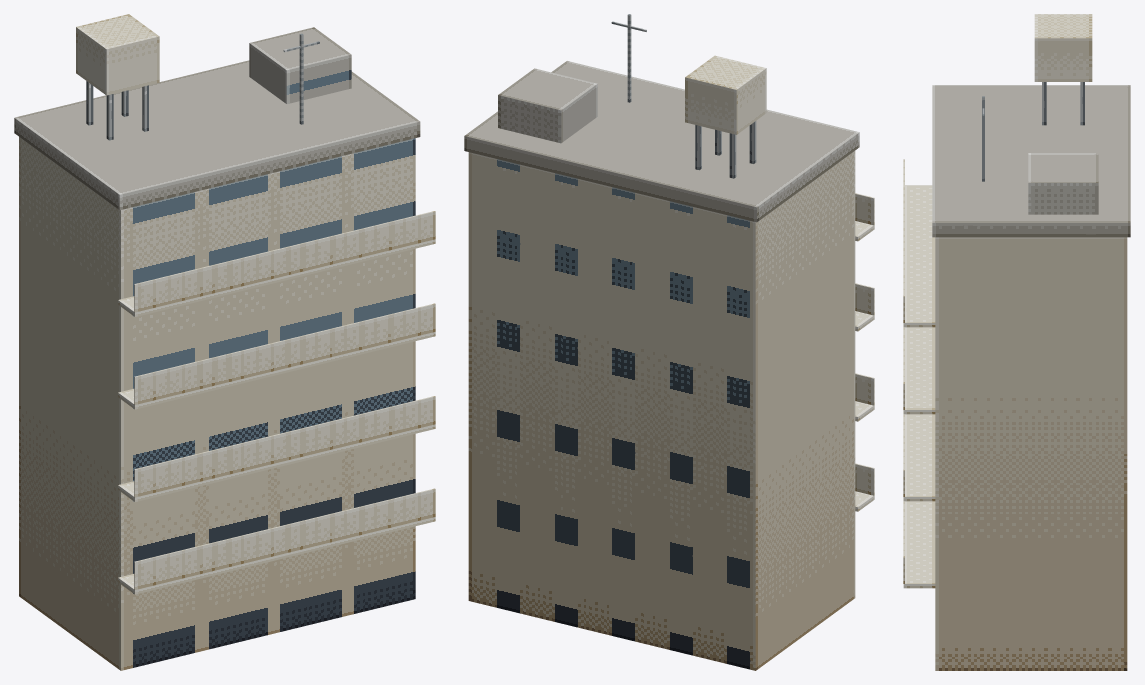
The model's file is sky_mansion.glb.
The picture shows the model from 3 angles, left to right: view 1: azimuth 30°, elevation 25°; view 2: azimuth 150°, elevation 25°; view 3: azimuth 270°, elevation 25°; orthographic projection. The views are drawn at different scales.
Visible parts, largest first — view 1: sky_mansion; view 2: sky_mansion; view 3: sky_mansion.
Boxes of the visible parts, x1,y1,x2,y2 form: sky_mansion: (14, 14, 435, 670); sky_mansion: (464, 14, 874, 670); sky_mansion: (903, 14, 1130, 670).
Bounding box in the file's own units: 10.2 × 18.6 × 7.11.
1 material, 1 textured.
